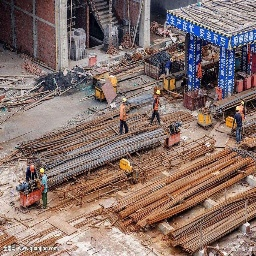person: (150, 88, 162, 129), (119, 95, 129, 139)
